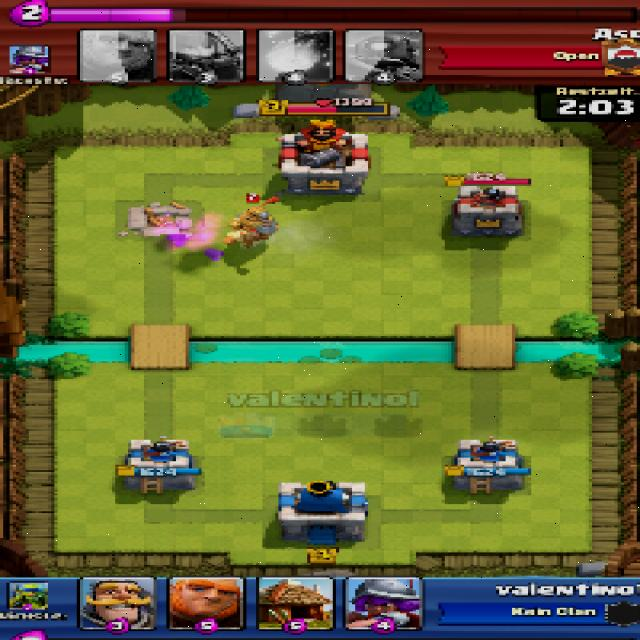Enemy-Prince: (224, 206, 277, 247)
